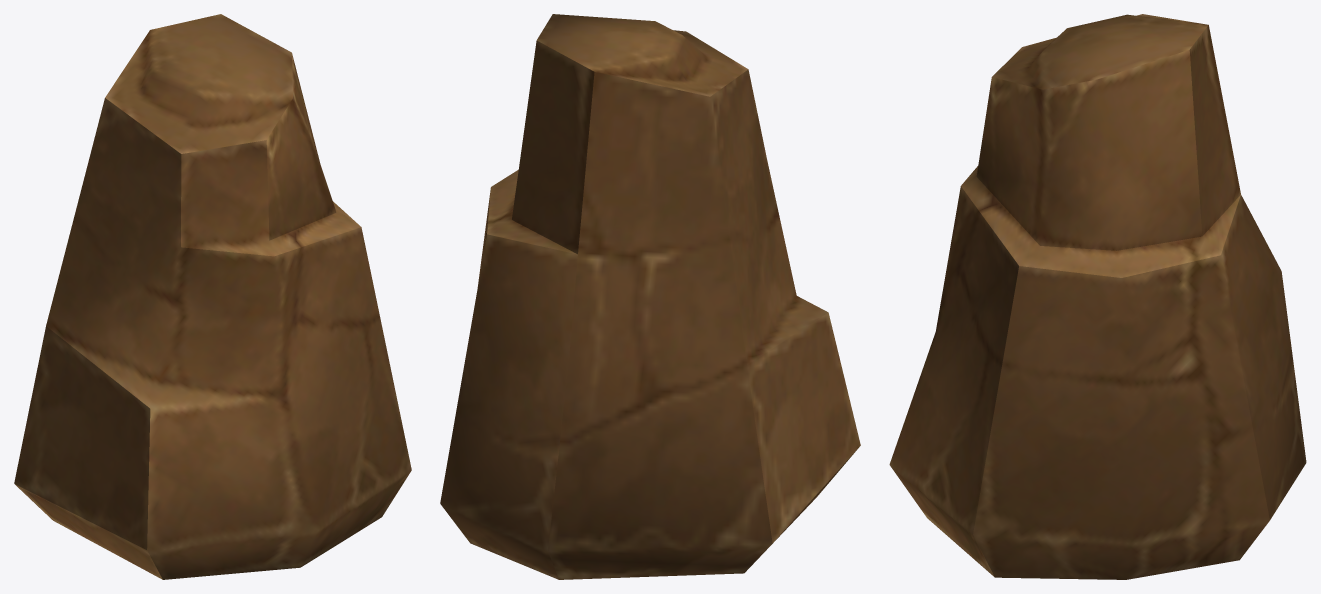
Rendered from shakian_object_dimension_rock02_01.FBX.
3 renders of one model, left to right at view 1: azimuth 30°, elevation 25°; view 2: azimuth 150°, elevation 25°; view 3: azimuth 270°, elevation 25°, orthographic. The views are drawn at different scales.
Parts seen in each view (by area): view 1: shakian_object_dimension_rock02_01; view 2: shakian_object_dimension_rock02_01; view 3: shakian_object_dimension_rock02_01.
Part boxes in pixels (x1,y1,x2,y2): shakian_object_dimension_rock02_01: (14,14,411,579); shakian_object_dimension_rock02_01: (440,14,860,579); shakian_object_dimension_rock02_01: (889,14,1306,579).
Bounding box in the file's own units: 2.06 × 3 × 2.21.
